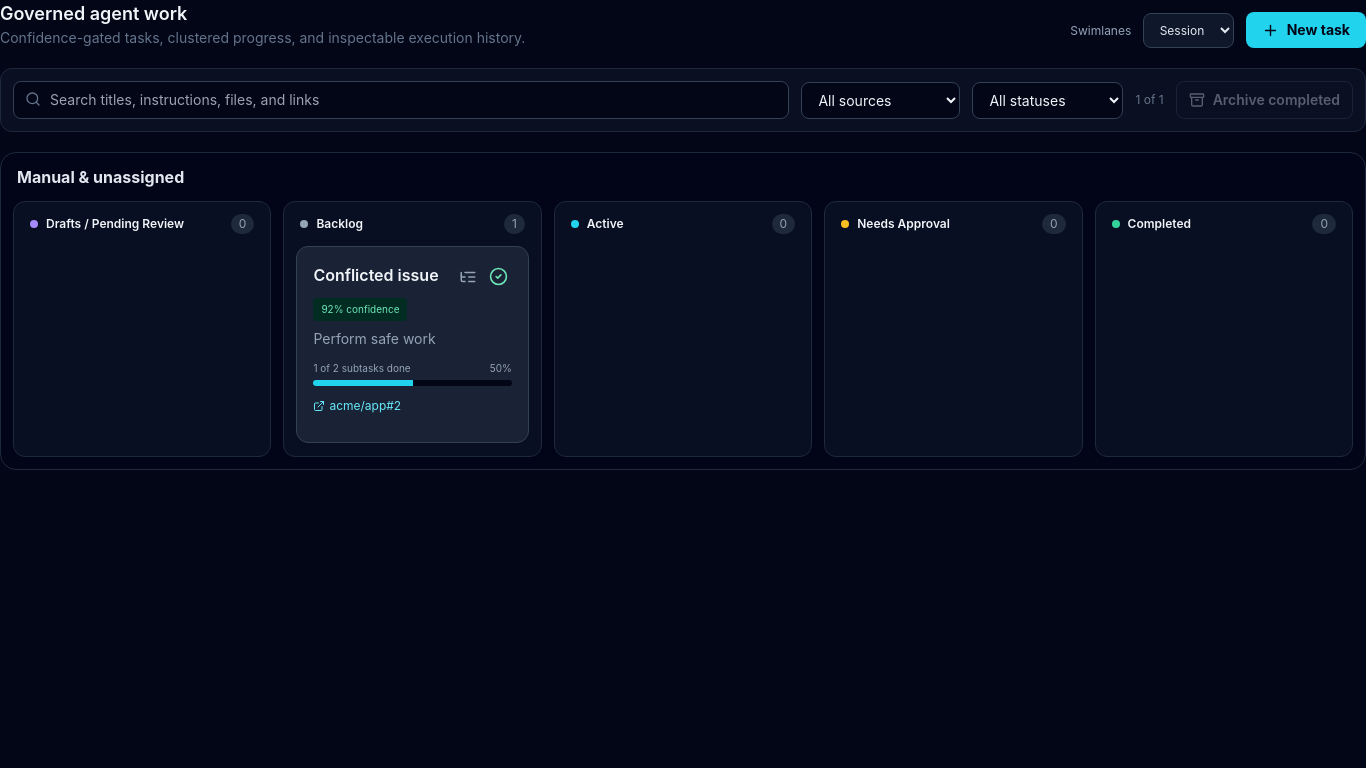
Test: KanbanBoard governance view › keeps provider conflicts visible after a task is completed
Click the button named "mark conflicted issue complete". click: (498, 276)
box: x1=485 y1=263 x2=512 y2=290
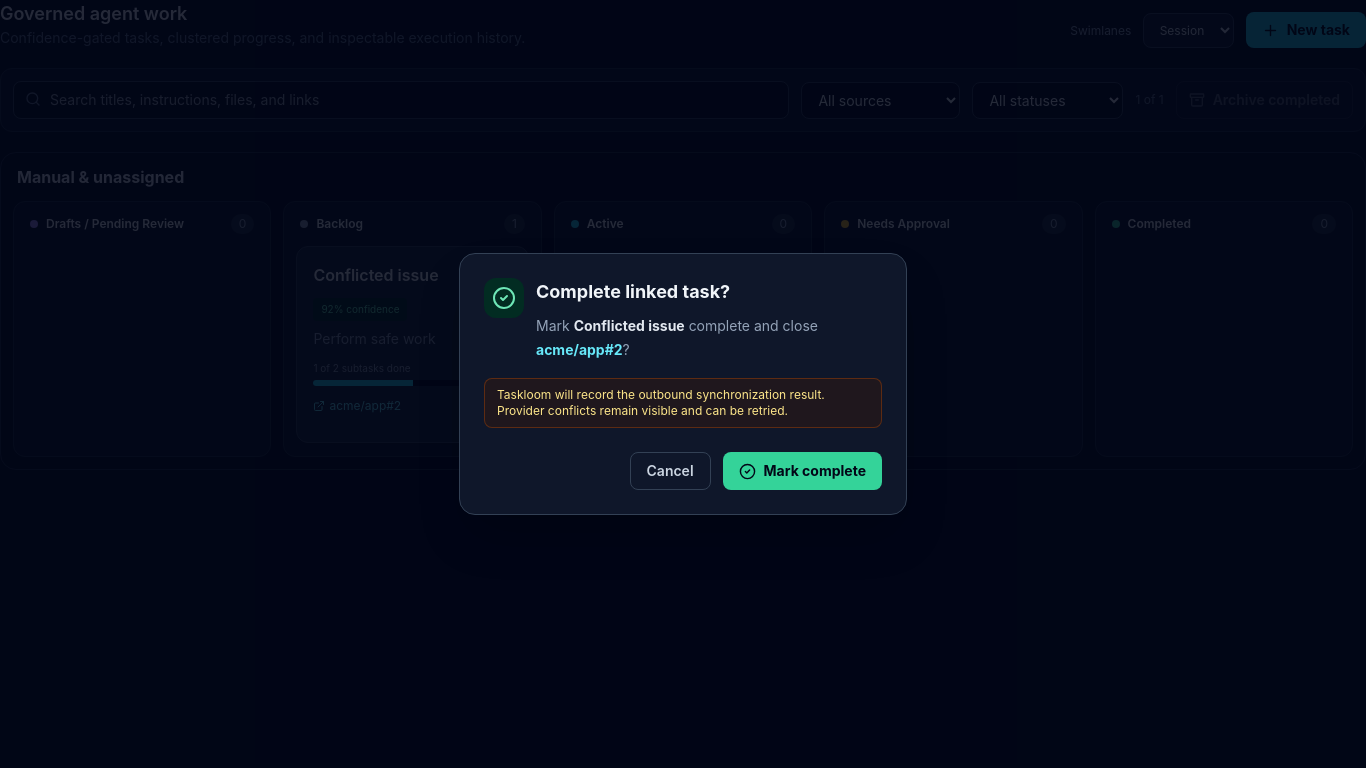
Click the button "Mark complete". click: (802, 471)
box: x1=723 y1=452 x2=882 y2=490
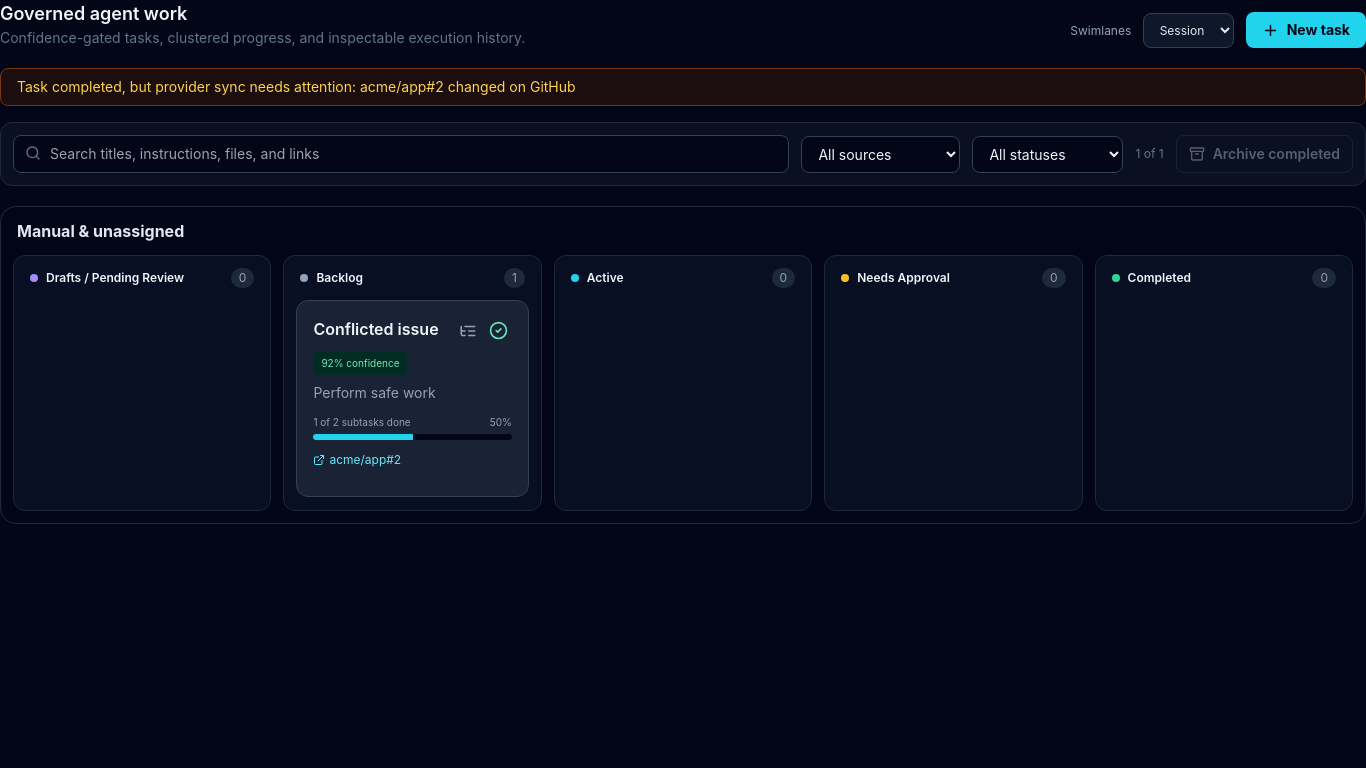
Expected: the text "Task completed, but provider sync needs attention: acme/app#2 changed on GitHub" is shown, x1=0 y1=68 x2=1365 y2=106
